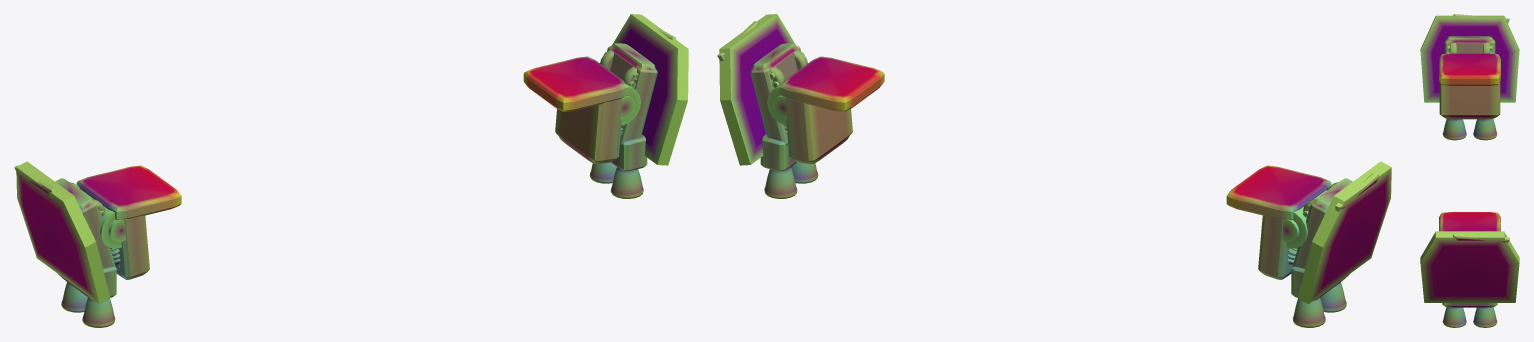
File: llm_gen_shoulder_pods_048_f25589.glb
3 renders of one model, left to right at view 1: azimuth 30°, elevation 25°; view 2: azimuth 150°, elevation 25°; view 3: azimuth 270°, elevation 25°, orthographic. The views are drawn at different scales.
Visible parts, largest first — view 1: adapter_shoulder_yoke_r, samurai_lower_tier_2_wing_white_l, adapter_shoulder_yoke_l, samurai_lower_tier_2_wing_white_r, adapter_sub_sode_frame_dark_0_adapter_dark_r, adapter_sub_sode_frame_dark_0_adapter_dark_l, samurai_mount_bracket_5_adapter_dark_r, samurai_vernier_b_7_vernier_bell_vernier_r, samurai_vernier_b_7_vernier_bell_vernier_l, samurai_vernier_a_6_vernier_bell_vernier_l, samurai_vernier_a_6_vernier_bell_vernier_r; view 2: adapter_shoulder_yoke_r, samurai_lower_tier_2_wing_white_l, adapter_shoulder_yoke_l, samurai_lower_tier_2_wing_white_r, adapter_sub_sode_frame_dark_0_adapter_dark_r, adapter_sub_sode_frame_dark_0_adapter_dark_l, samurai_mount_bracket_5_adapter_dark_r, samurai_vernier_a_6_vernier_bell_vernier_r, samurai_vernier_a_6_vernier_bell_vernier_l, samurai_vernier_b_7_vernier_bell_vernier_l, samurai_vernier_b_7_vernier_bell_vernier_r; view 3: samurai_lower_tier_2_wing_white_r, samurai_lower_tier_2_wing_white_l, adapter_shoulder_yoke_l, adapter_shoulder_yoke_r, adapter_sub_sode_frame_dark_0_adapter_dark_l, samurai_vernier_a_6_vernier_bell_vernier_l, samurai_vernier_b_7_vernier_bell_vernier_l, samurai_vernier_a_6_vernier_bell_vernier_r, samurai_vernier_b_7_vernier_bell_vernier_r, samurai_mount_bracket_5_adapter_dark_r, samurai_crest_fin_4_gold_r, servo_1_servo_accent_l.
Boxes of the visible parts, x1,y1,x2,y2 form: adapter_shoulder_yoke_r: [523, 56, 640, 164]; samurai_lower_tier_2_wing_white_l: [16, 161, 110, 304]; adapter_shoulder_yoke_l: [76, 165, 181, 279]; samurai_lower_tier_2_wing_white_r: [612, 14, 688, 165]; adapter_sub_sode_frame_dark_0_adapter_dark_r: [607, 43, 657, 144]; adapter_sub_sode_frame_dark_0_adapter_dark_l: [55, 178, 115, 268]; samurai_mount_bracket_5_adapter_dark_r: [611, 134, 647, 171]; samurai_vernier_b_7_vernier_bell_vernier_r: [610, 167, 643, 198]; samurai_vernier_b_7_vernier_bell_vernier_l: [82, 297, 115, 327]; samurai_vernier_a_6_vernier_bell_vernier_l: [61, 282, 87, 312]; samurai_vernier_a_6_vernier_bell_vernier_r: [589, 162, 616, 183]; adapter_shoulder_yoke_r: [767, 56, 884, 164]; samurai_lower_tier_2_wing_white_l: [1297, 161, 1391, 304]; adapter_shoulder_yoke_l: [1226, 165, 1331, 279]; samurai_lower_tier_2_wing_white_r: [719, 14, 795, 165]; adapter_sub_sode_frame_dark_0_adapter_dark_r: [750, 43, 800, 145]; adapter_sub_sode_frame_dark_0_adapter_dark_l: [1292, 178, 1352, 268]; samurai_mount_bracket_5_adapter_dark_r: [760, 134, 796, 171]; samurai_vernier_a_6_vernier_bell_vernier_r: [764, 167, 797, 198]; samurai_vernier_a_6_vernier_bell_vernier_l: [1292, 297, 1325, 327]; samurai_vernier_b_7_vernier_bell_vernier_l: [1320, 282, 1346, 312]; samurai_vernier_b_7_vernier_bell_vernier_r: [791, 162, 818, 183]; samurai_lower_tier_2_wing_white_r: [1420, 231, 1519, 302]; samurai_lower_tier_2_wing_white_l: [1420, 15, 1519, 102]; adapter_shoulder_yoke_l: [1439, 53, 1500, 118]; adapter_shoulder_yoke_r: [1439, 212, 1500, 231]; adapter_sub_sode_frame_dark_0_adapter_dark_l: [1444, 36, 1495, 53]; samurai_vernier_a_6_vernier_bell_vernier_l: [1473, 119, 1497, 140]; samurai_vernier_b_7_vernier_bell_vernier_l: [1442, 119, 1466, 140]; samurai_vernier_a_6_vernier_bell_vernier_r: [1473, 307, 1497, 327]; samurai_vernier_b_7_vernier_bell_vernier_r: [1442, 307, 1466, 327]; samurai_mount_bracket_5_adapter_dark_r: [1442, 303, 1497, 307]; samurai_crest_fin_4_gold_r: [1453, 234, 1509, 242]; servo_1_servo_accent_l: [1449, 43, 1490, 53].
Bounding box in the file's own units: 111 × 24.35 × 20.8.
